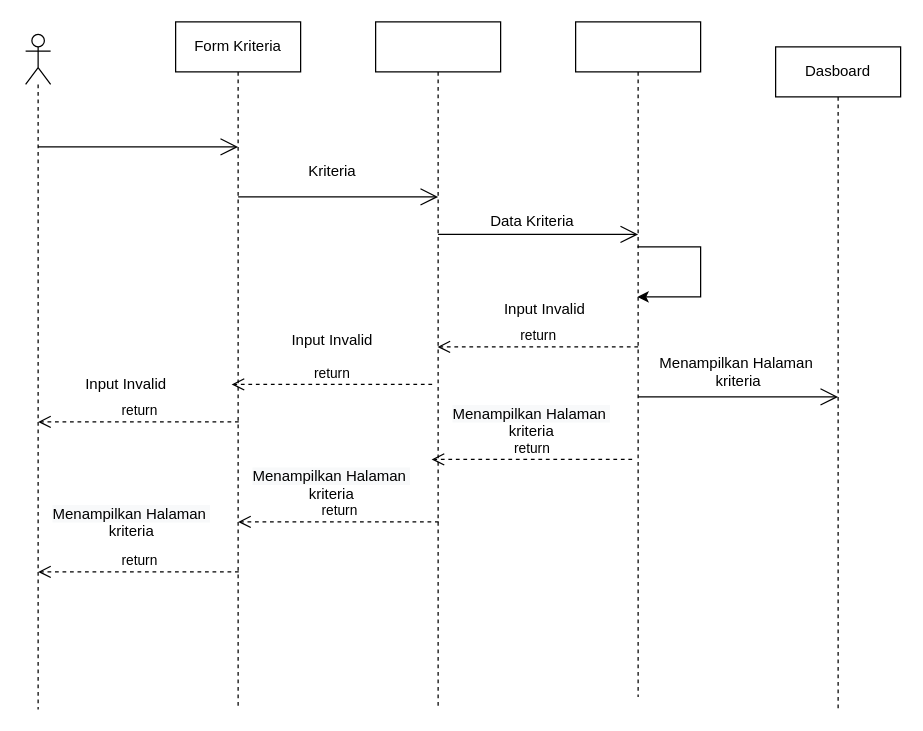
This 923x731 diagram has some shape labels left out. The shapes that lost their labels are listed below. From the top down, each one's box as (x1, y1, x2, y2) in pixels, then its label:
(374, 21, 501, 709): Sistem
(574, 21, 701, 697): Database
